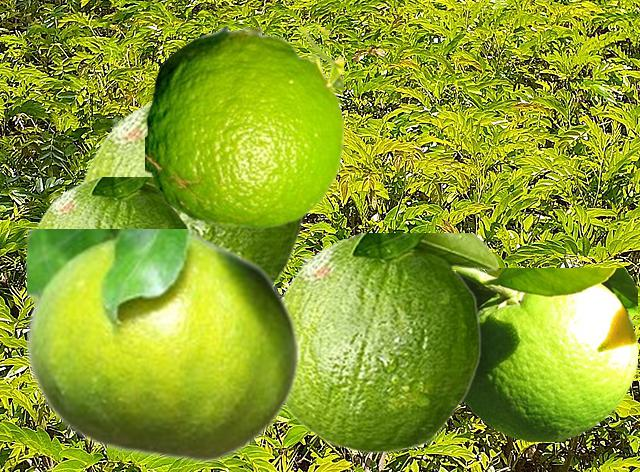dalandan: (27, 229, 300, 463), (282, 233, 498, 452), (78, 98, 305, 285), (145, 27, 342, 227), (456, 268, 636, 440), (25, 177, 189, 304)
